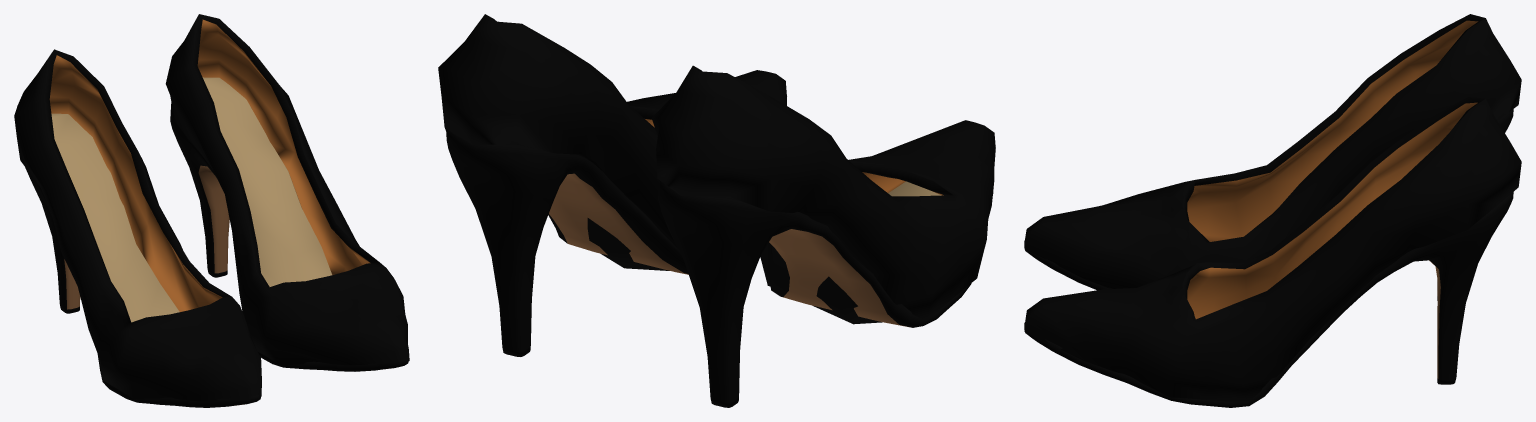
The model's file is Woman HighHeel 01.fbx.
3 renders of one model, left to right at view 1: azimuth 30°, elevation 25°; view 2: azimuth 150°, elevation 25°; view 3: azimuth 270°, elevation 25°, orthographic. The views are drawn at different scales.
Visible parts, largest first — view 1: Woman HighHeel 01; view 2: Woman HighHeel 01; view 3: Woman HighHeel 01.
Part boxes in pixels (box(x1,y1,x2,y2)): Woman HighHeel 01: box(14, 14, 409, 407); Woman HighHeel 01: box(438, 14, 995, 407); Woman HighHeel 01: box(1024, 14, 1521, 407).
Bounding box in the file's own units: 19.2 × 16.17 × 25.51.
